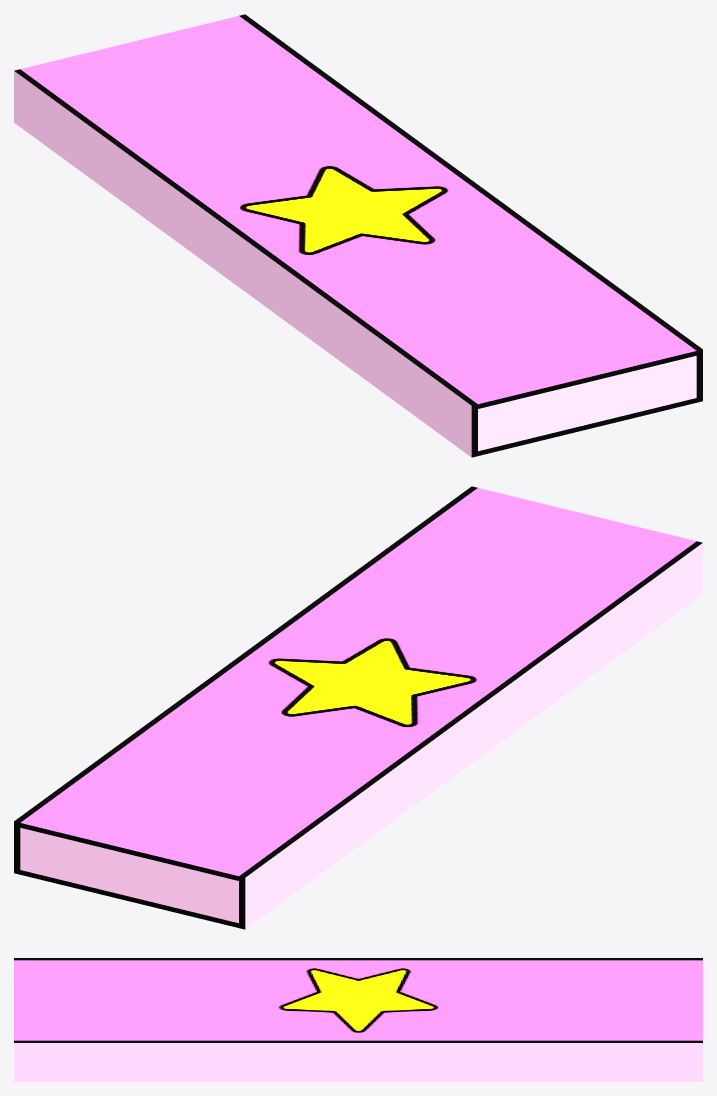
The model's file is cocobay_thinpath1.gltf.
3 renders of one model, top to bottom at view 1: azimuth 30°, elevation 25°; view 2: azimuth 150°, elevation 25°; view 3: azimuth 270°, elevation 25°, orthographic. The views are drawn at different scales.
Parts seen in each view (by area): view 1: cocobay_thinpath1_glb; view 2: cocobay_thinpath1_glb; view 3: cocobay_thinpath1_glb.
Boxes of the visible parts, x1,y1,x2,y2 form: cocobay_thinpath1_glb: (14,14,702,457); cocobay_thinpath1_glb: (14,486,702,929); cocobay_thinpath1_glb: (14,958,702,1081).
Size of what is drawn, in the model's own units: 1.17 by 0.25 by 4.
Materials: 1 (1 with a texture image).
